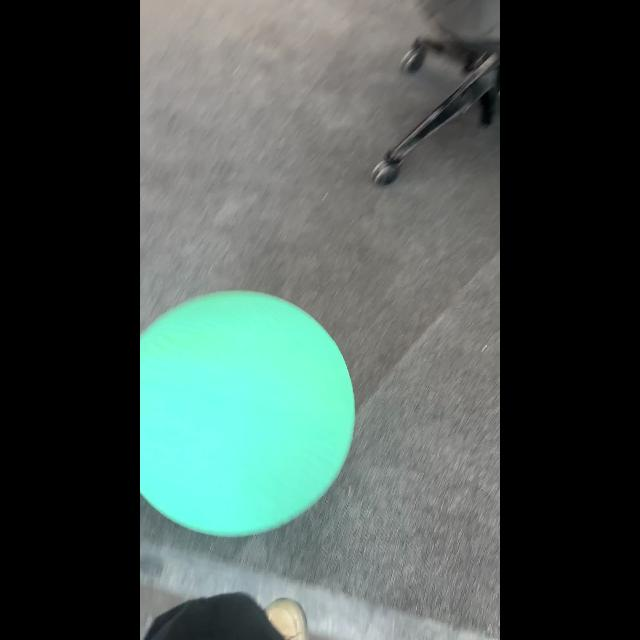ALGAE: (140, 289, 356, 537)
